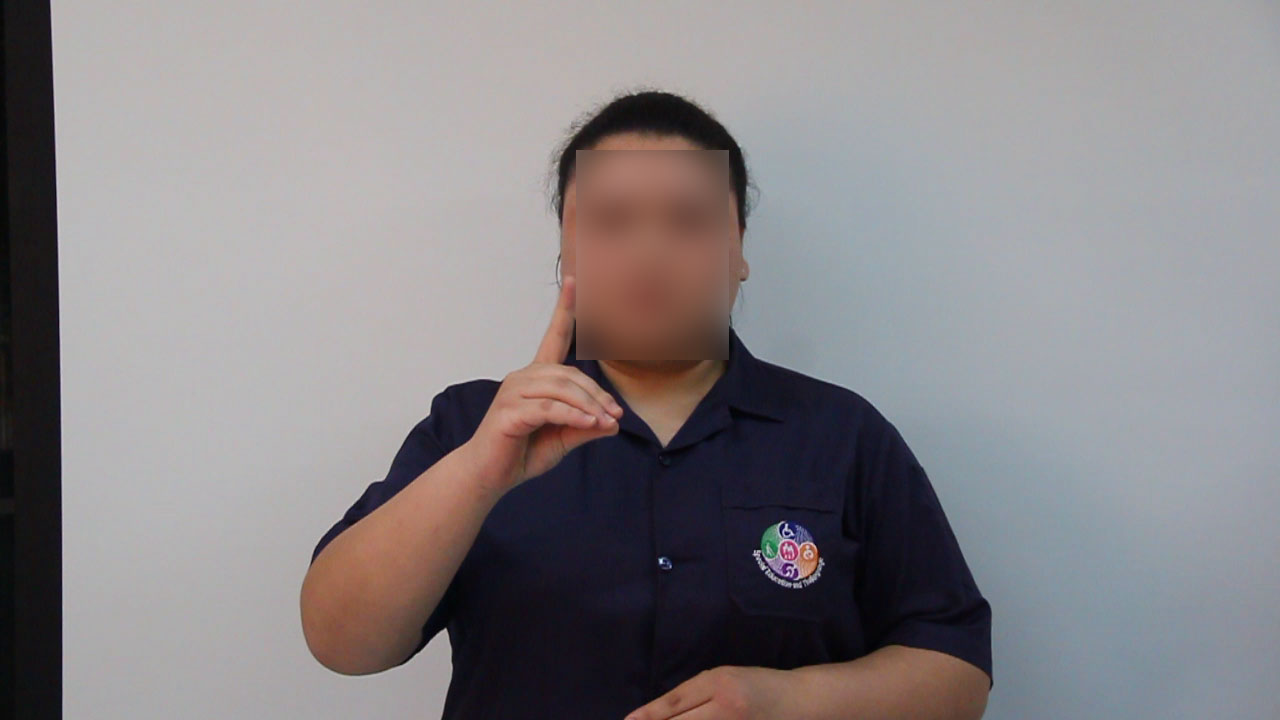dor: (470, 266, 634, 489)
